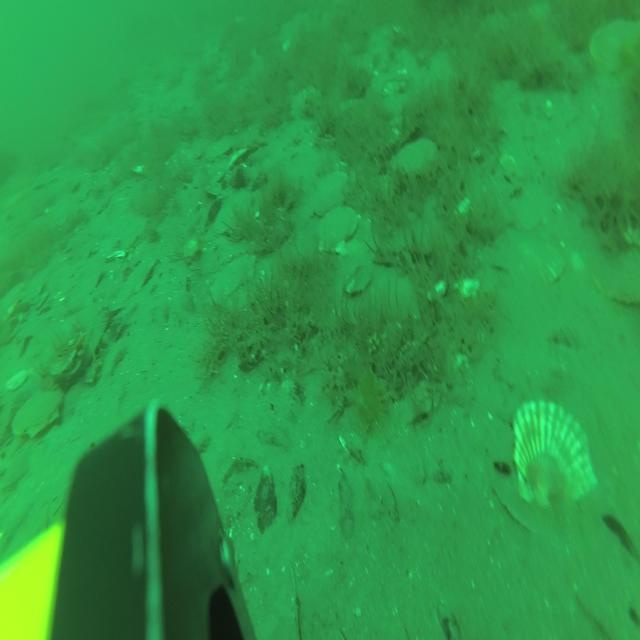scallop: (509, 396, 599, 518), (507, 229, 568, 289), (587, 14, 640, 78), (211, 186, 268, 242), (11, 384, 65, 440), (386, 133, 442, 186), (209, 250, 261, 307), (316, 203, 360, 260), (310, 168, 352, 217), (205, 132, 235, 165)
